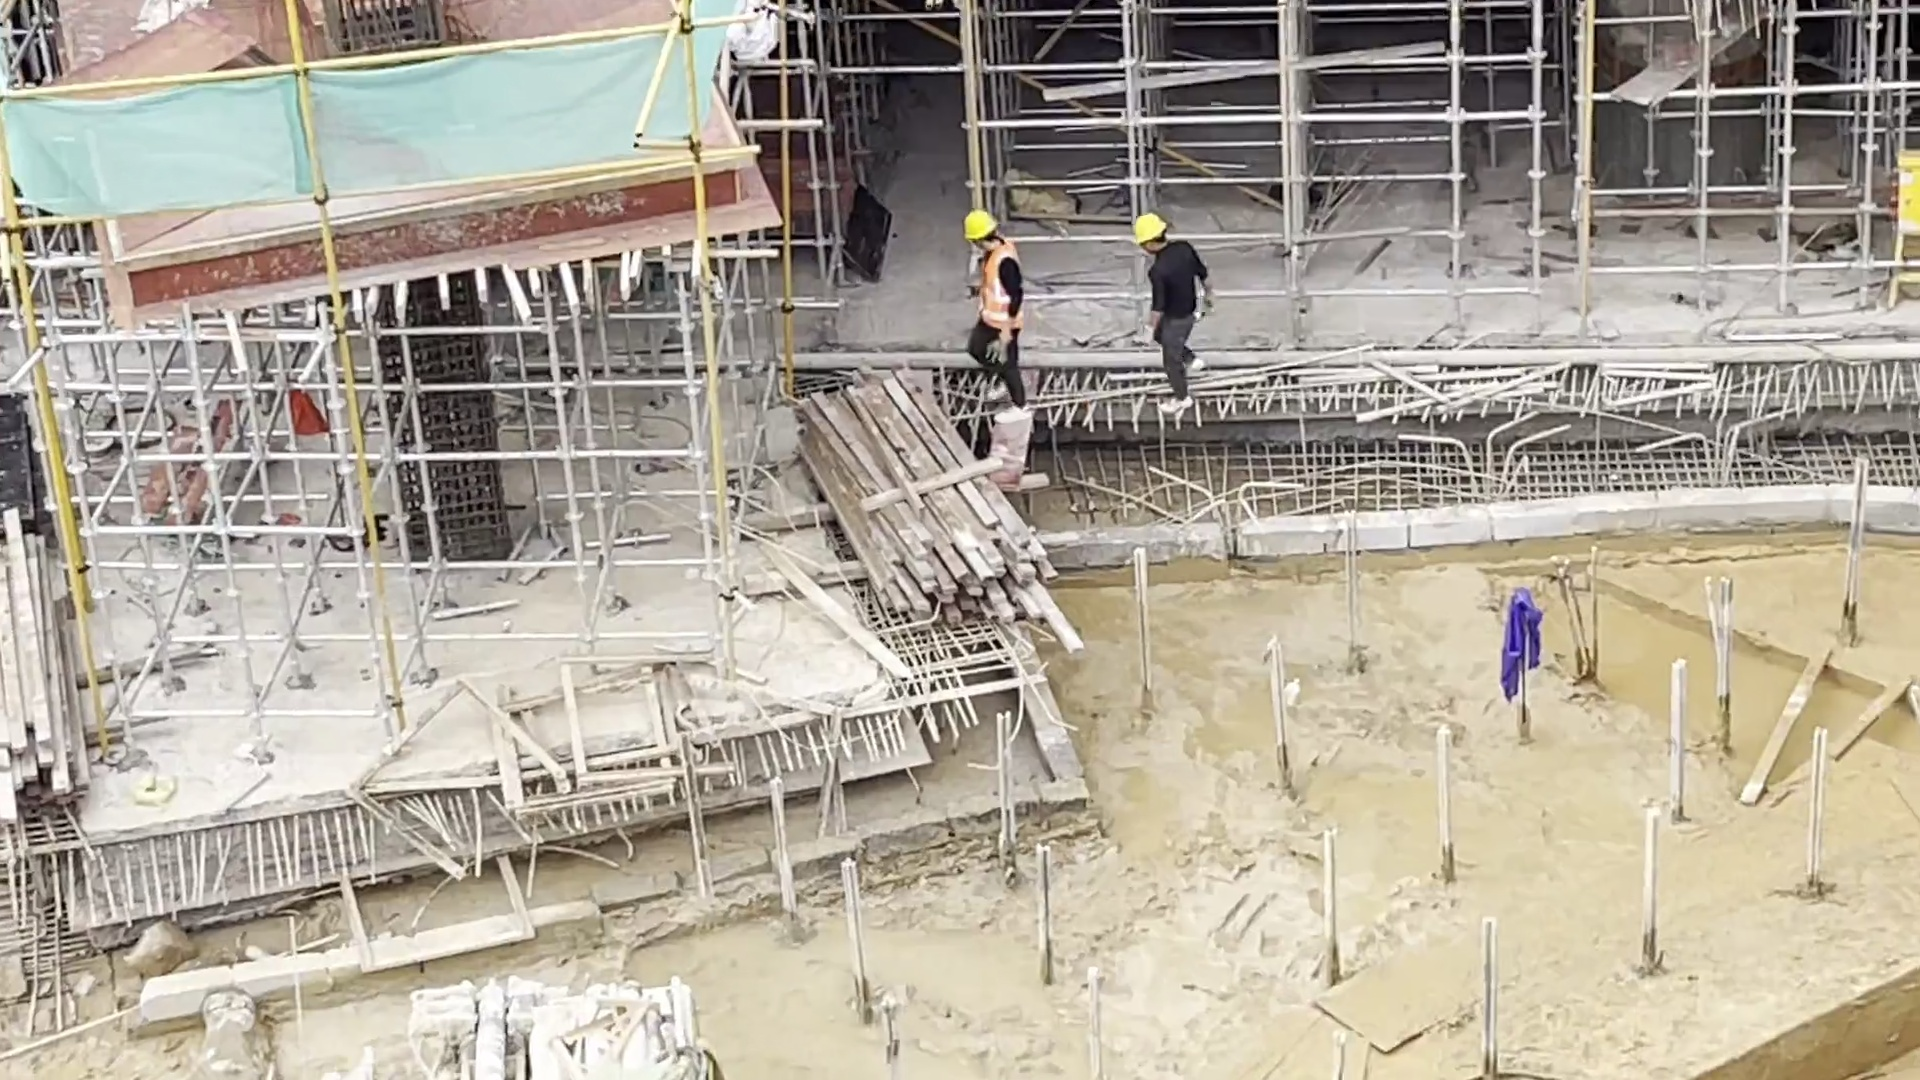helmet: (1136, 211, 1168, 247), (961, 209, 995, 238)
person: (1128, 208, 1213, 416), (953, 206, 1038, 408)
vest: (979, 239, 1027, 332)
